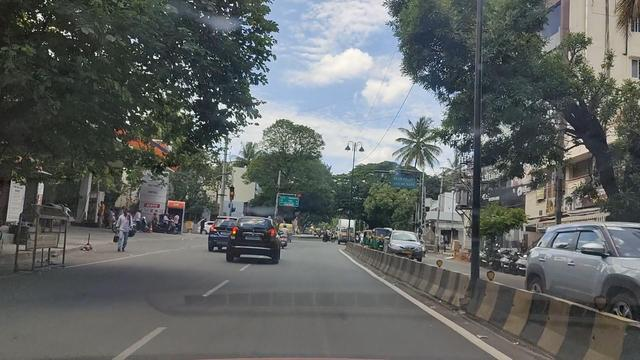LMV: (228, 208, 284, 270)
